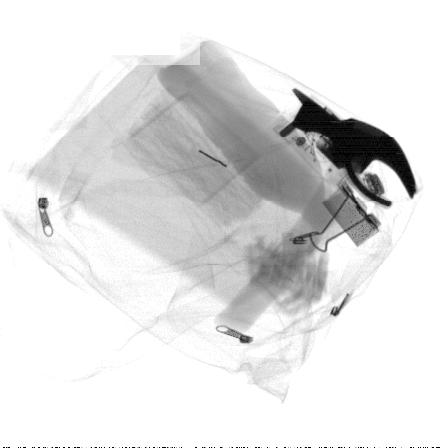Hammer: (213, 97, 416, 336)
Pliers: (294, 88, 416, 208)
